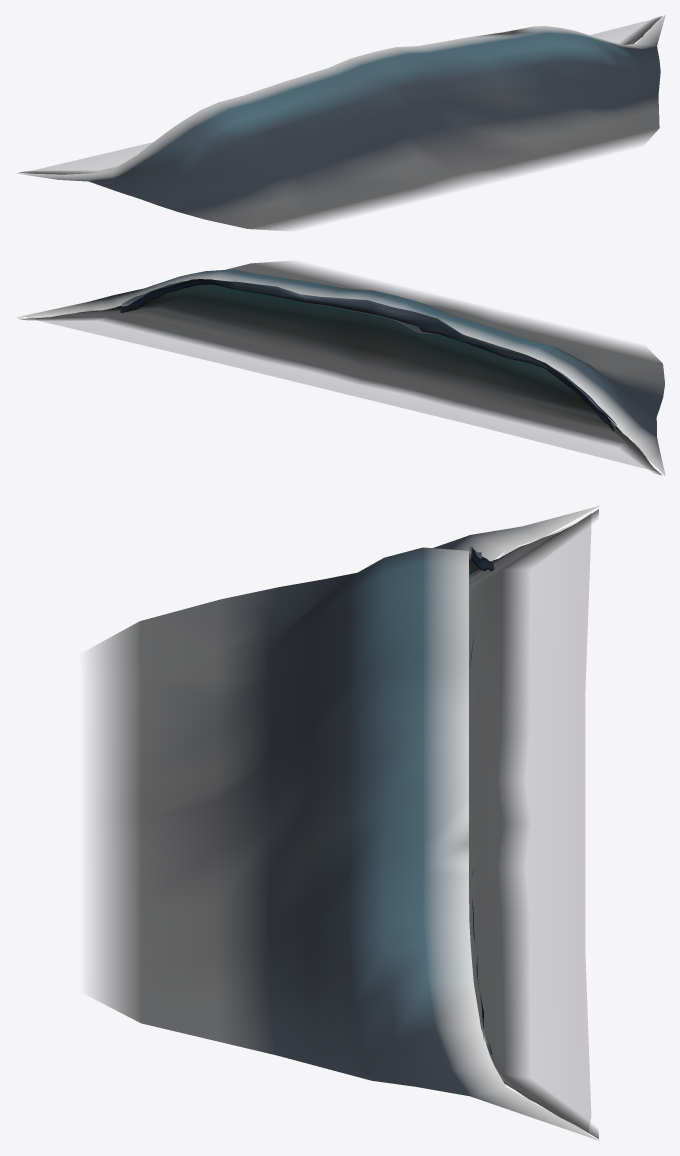
Rendered from Wave.gltf.
The picture shows the model from 3 angles, top to bottom: view 1: azimuth 30°, elevation 25°; view 2: azimuth 150°, elevation 25°; view 3: azimuth 270°, elevation 25°; orthographic projection. The views are drawn at different scales.
Visible parts, largest first — view 1: WaveMesh; view 2: WaveMesh; view 3: WaveMesh.
Boxes of the visible parts, x1,y1,x2,y2 form: WaveMesh: [16, 14, 665, 230]; WaveMesh: [16, 261, 665, 476]; WaveMesh: [88, 505, 600, 1141].
Size of the model in its own units: 823 by 94.08 by 286.
